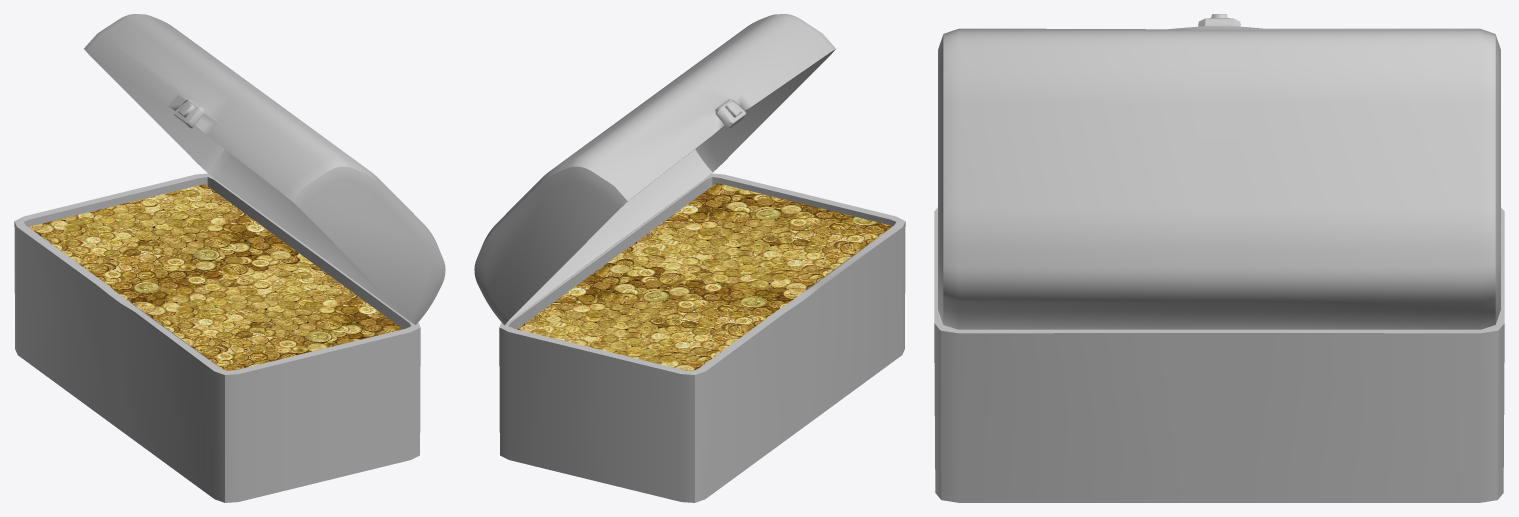
The model's file is Chest.FBX.
3 views of the same model, side by side, from view 1: azimuth 30°, elevation 25°; view 2: azimuth 150°, elevation 25°; view 3: azimuth 270°, elevation 25° (orthographic). The views are drawn at different scales.
Visible parts, largest first — view 1: ChestTop; view 2: ChestTop; view 3: ChestTop.
Boxes of the visible parts, x1,y1,x2,y2 form: ChestTop: (14, 14, 445, 502); ChestTop: (474, 14, 905, 502); ChestTop: (934, 14, 1504, 502).
Size of the model in its own units: 26.48 by 34.32 by 42.96.
